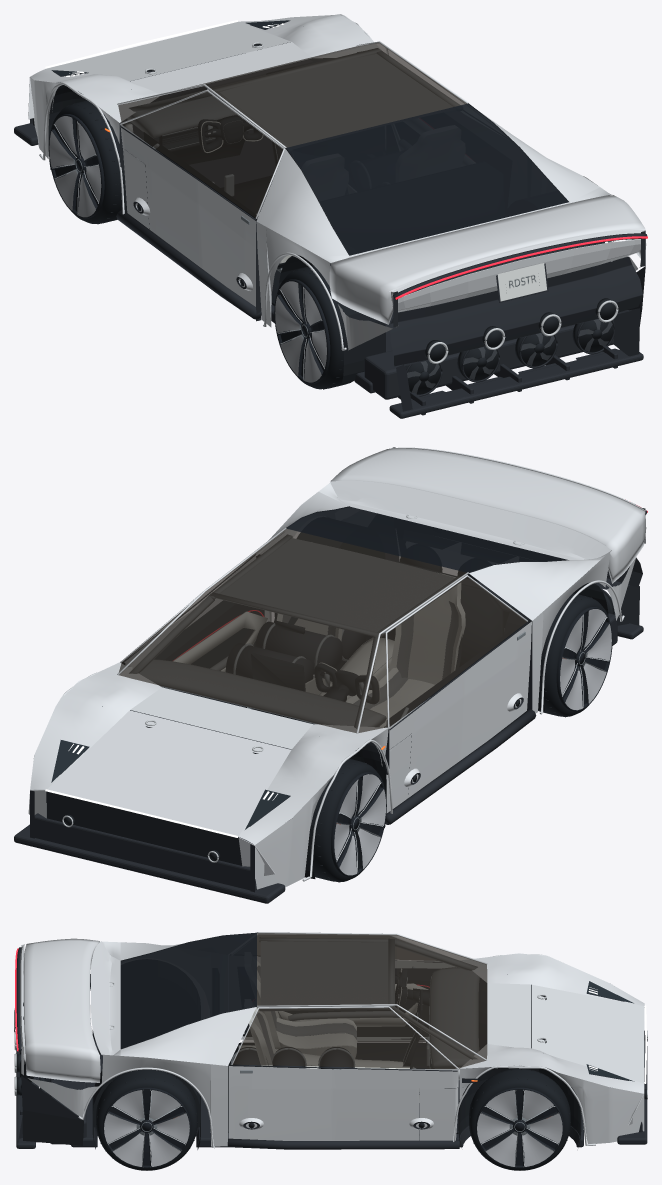
The model's file is roadster.glb.
3 renders of one model, top to bottom at view 1: azimuth 30°, elevation 25°; view 2: azimuth 150°, elevation 25°; view 3: azimuth 270°, elevation 25°, orthographic. The views are drawn at different scales.
Parts seen in each view (by area): view 1: Rear_Glass, Roof_Glass, Active_Wing_Blade, Interior_Continuous_Roof_Headliner, Rear_Carbon_Valance, Door_Glass_-1, Door_Skin_-1, Bonnet_Center_0, Rear_Buttress_-1, Rear_Rolled_Fascia, Diffuser_Lower_Lip, Bonnet_Center_1 (+35 smaller); view 2: Windshield, Bonnet_Center_0, Roof_Glass, Active_Wing_Blade, Interior_Continuous_Roof_Headliner, Door_Skin_-1, Door_Glass_-1, Rear_Deck_Center, Rear_Glass, Hood_Shoulder_1, Dashboard_Suede_Sculpted, Hood_Shoulder_-1 (+36 smaller); view 3: Door_Skin_1, Rear_Glass, Door_Glass_1, Roof_Glass, Active_Wing_Blade, Bonnet_Center_0, Interior_Continuous_Roof_Headliner, Windshield, Rear_Quarter_1, Dashboard_Suede_Sculpted, Rear_Buttress_1, Front_Fender_1 (+55 smaller).
Part boxes in pixels (x1=…): Rear_Glass: x1=286, y1=103, x2=568, y2=255; Roof_Glass: x1=206, y1=42, x2=466, y2=147; Active_Wing_Blade: x1=329, y1=195, x2=646, y2=324; Interior_Continuous_Roof_Headliner: x1=220, y1=54, x2=452, y2=146; Rear_Carbon_Valance: x1=390, y1=256, x2=642, y2=366; Door_Glass_-1: x1=122, y1=91, x2=283, y2=217; Door_Skin_-1: x1=120, y1=124, x2=261, y2=319; Bonnet_Center_0: x1=47, y1=21, x2=291, y2=81; Rear_Buttress_-1: x1=256, y1=149, x2=348, y2=255; Rear_Rolled_Fascia: x1=392, y1=239, x2=640, y2=312; Diffuser_Lower_Lip: x1=389, y1=349, x2=643, y2=418; Bonnet_Center_1: x1=130, y1=42, x2=311, y2=93; Windshield: x1=119, y1=591, x2=378, y2=732; Bonnet_Center_0: x1=47, y1=710, x2=291, y2=836; Roof_Glass: x1=206, y1=528, x2=466, y2=633; Active_Wing_Blade: x1=330, y1=448, x2=646, y2=583; Interior_Continuous_Roof_Headliner: x1=220, y1=538, x2=454, y2=631; Door_Skin_-1: x1=389, y1=621, x2=531, y2=797; Door_Glass_-1: x1=387, y1=577, x2=526, y2=726; Rear_Deck_Center: x1=330, y1=480, x2=611, y2=559; Rear_Glass: x1=286, y1=506, x2=567, y2=572; Hood_Shoulder_1: x1=30, y1=662, x2=161, y2=790; Dashboard_Suede_Sculpted: x1=139, y1=659, x2=386, y2=726; Hood_Shoulder_-1: x1=238, y1=724, x2=387, y2=844; Door_Skin_1: x1=228, y1=1066, x2=458, y2=1140; Rear_Glass: x1=120, y1=933, x2=256, y2=1048; Door_Glass_1: x1=233, y1=1007, x2=456, y2=1068; Roof_Glass: x1=257, y1=933, x2=396, y2=1005; Active_Wing_Blade: x1=23, y1=938, x2=100, y2=1082; Bonnet_Center_0: x1=531, y1=984, x2=644, y2=1083; Interior_Continuous_Roof_Headliner: x1=261, y1=941, x2=387, y2=1005; Windshield: x1=397, y1=935, x2=487, y2=1059; Rear_Quarter_1: x1=21, y1=1046, x2=227, y2=1146; Dashboard_Suede_Sculpted: x1=430, y1=967, x2=479, y2=1068; Rear_Buttress_1: x1=120, y1=1007, x2=256, y2=1065; Front_Fender_1: x1=459, y1=1065, x2=644, y2=1143.
Size of the model in its own units: 2.08 by 1.25 by 4.84.
Materials: 23 (4 with a texture image).
